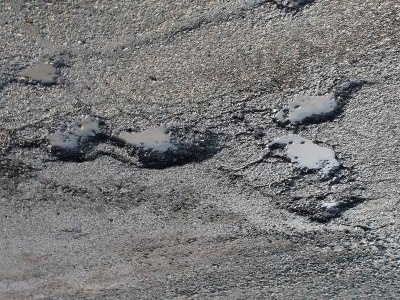pothole: (108, 117, 221, 172), (268, 77, 362, 130), (258, 136, 345, 182), (40, 110, 110, 165), (288, 190, 368, 226), (16, 53, 70, 90), (265, 0, 318, 14)
